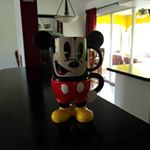cups: (38, 27, 107, 124)
